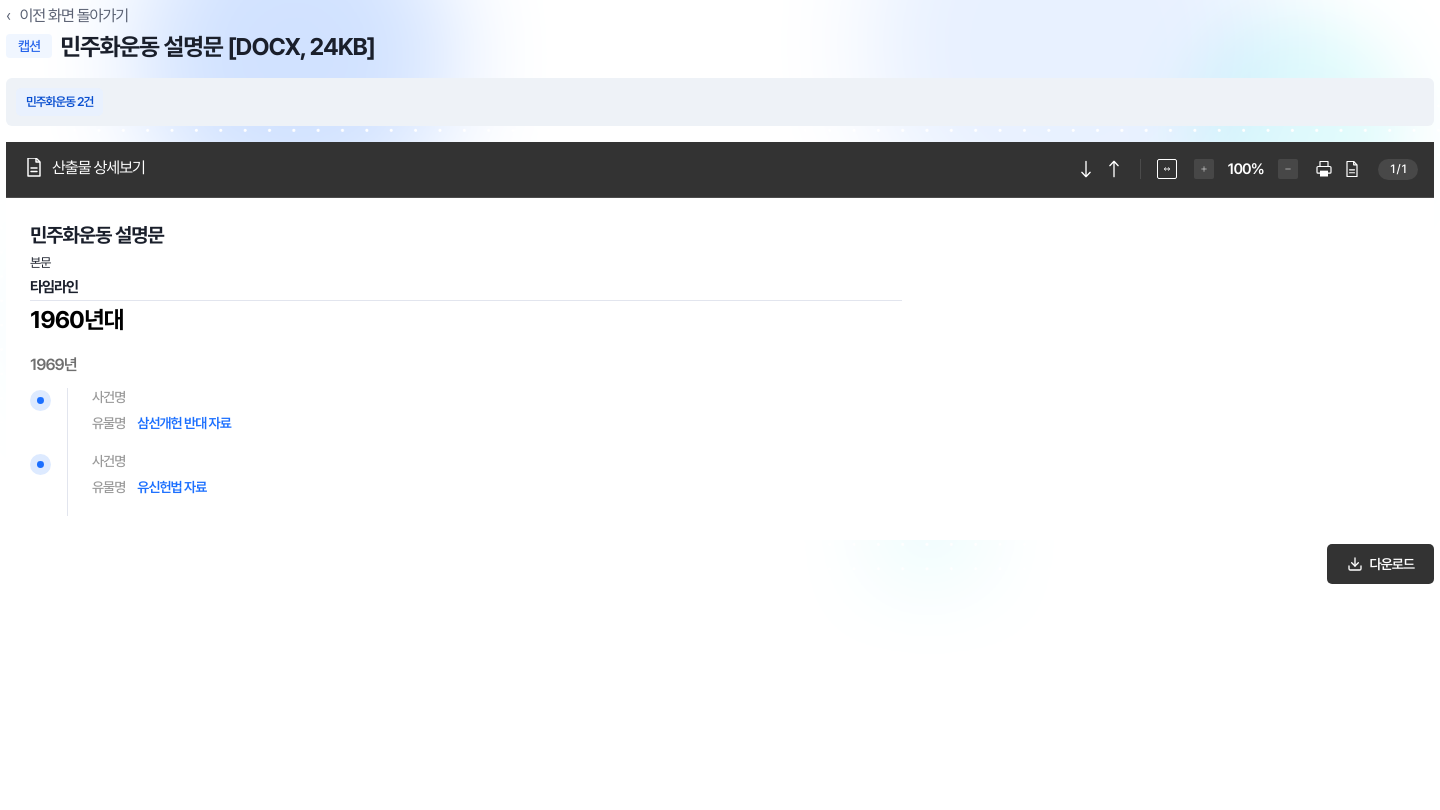
Test case: found:false(unparsable) 도 사람 문구로 바뀐다
Click the button "삼선개헌 반대 자료": (184,423) [137,414,231,432]
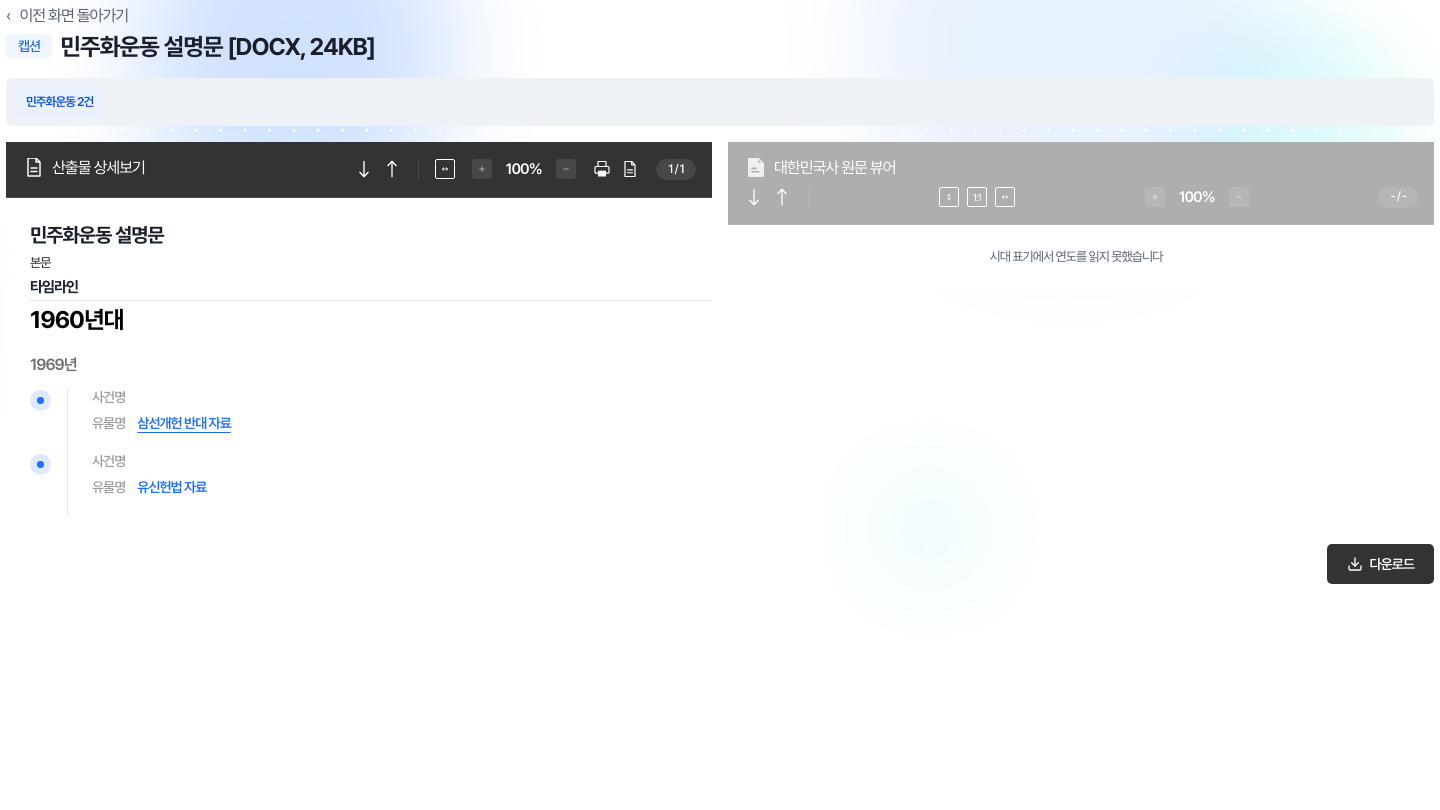
expect the text "시대 표기에서 연도를 읽지 못했습니다" is shown: met, box [990,249,1162,264]
